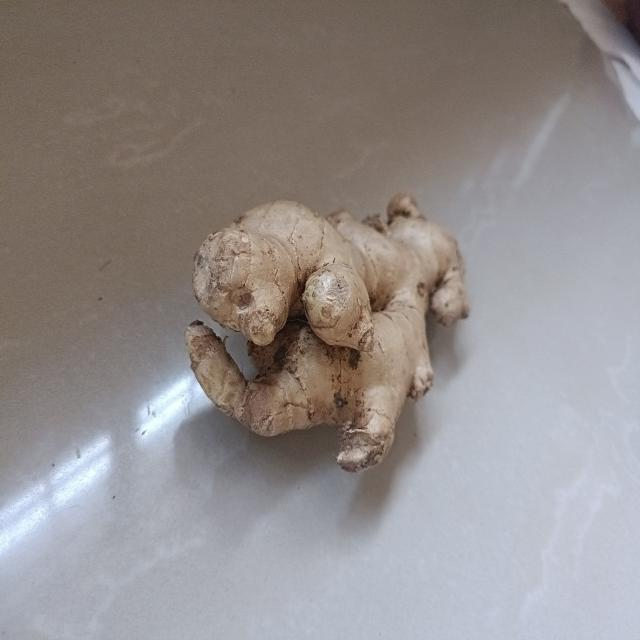ginger: (179, 182, 478, 478)
